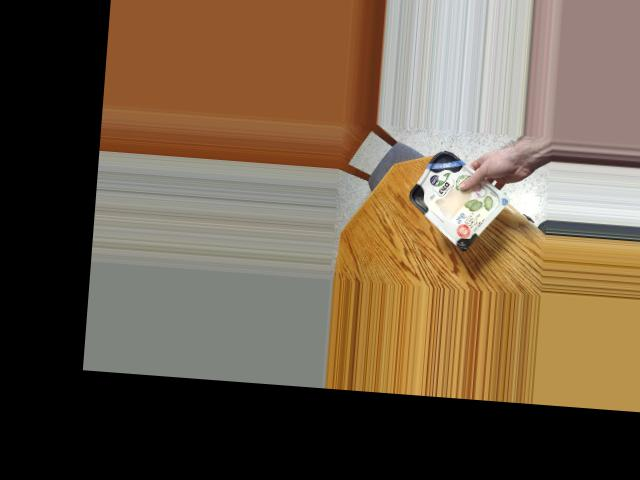cheese: (406, 146, 496, 245)
